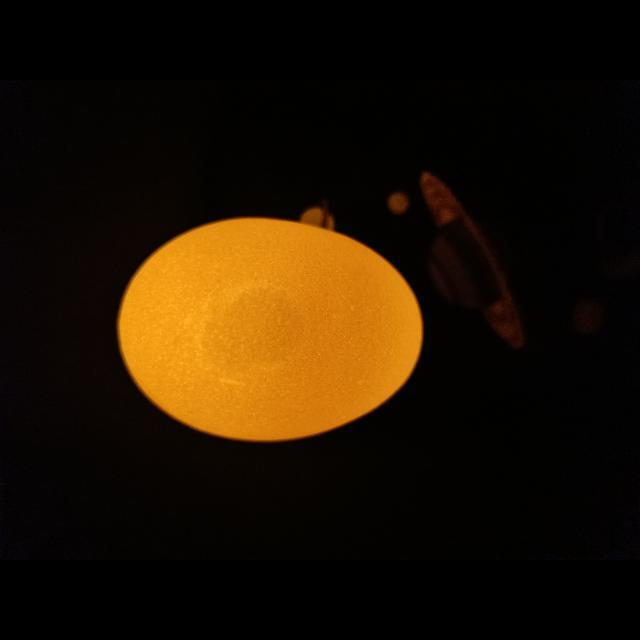AA - Premium: (118, 218, 423, 441)
